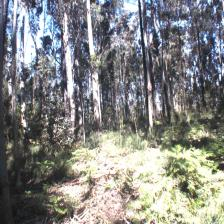trunktrack_idkeyframe: (12, 92, 20, 184)
